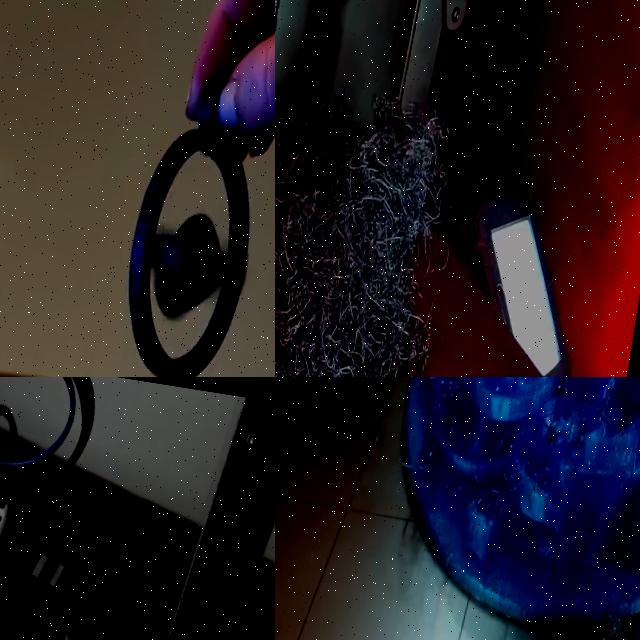spaghetti: (275, 55, 480, 377), (396, 377, 640, 599)
